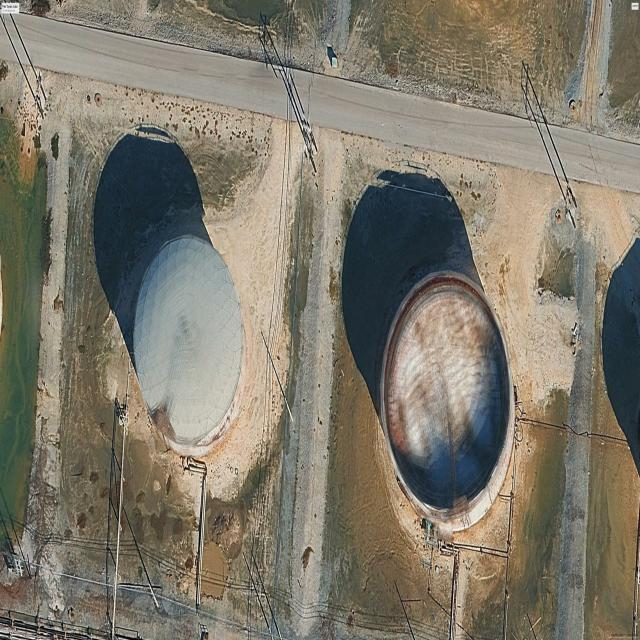Oil Rafinery: (380, 271, 515, 532), (133, 235, 244, 455)
